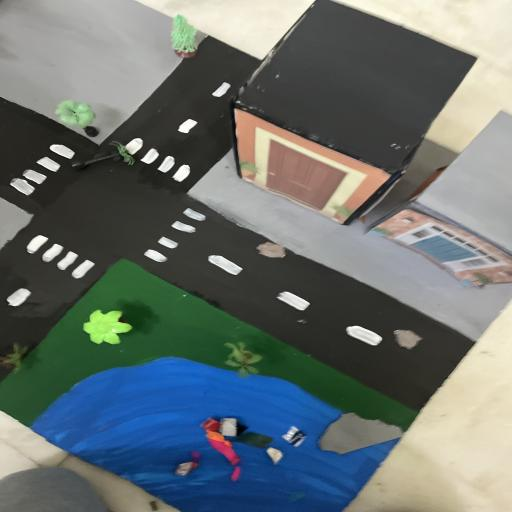encroachment: (316, 412, 407, 457)
fallen trees: (74, 140, 140, 172)
porthole: (392, 328, 426, 350), (258, 242, 287, 260)
trash: (172, 414, 306, 484)
